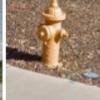a fire hydrant: (36, 0, 70, 68)
cars: (80, 71, 100, 83)
